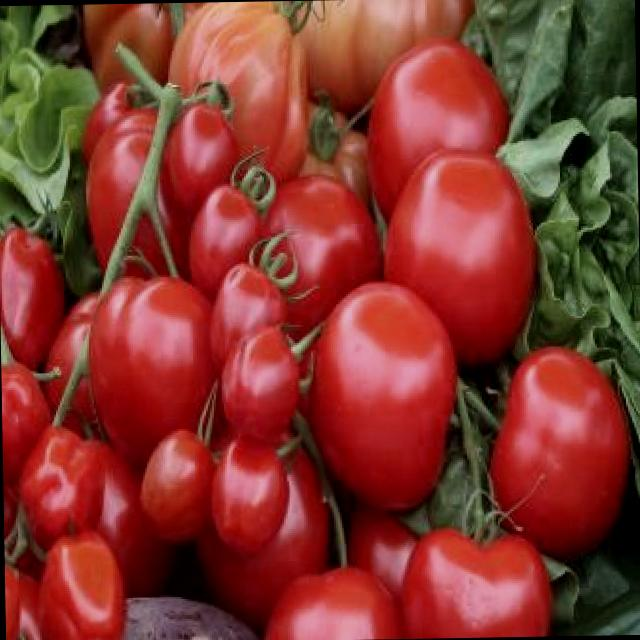Fresh_Tomato: (300, 282, 463, 514), (379, 142, 541, 367), (486, 341, 634, 567), (188, 418, 332, 628), (362, 38, 514, 234), (83, 266, 223, 472), (248, 171, 380, 371), (78, 102, 220, 284), (392, 522, 558, 639), (252, 558, 409, 640), (12, 419, 108, 552), (207, 250, 293, 382), (206, 433, 288, 564), (0, 228, 73, 373), (31, 533, 127, 640), (184, 177, 268, 298), (218, 324, 300, 446), (162, 94, 242, 208), (136, 430, 214, 543), (160, 105, 240, 208)
